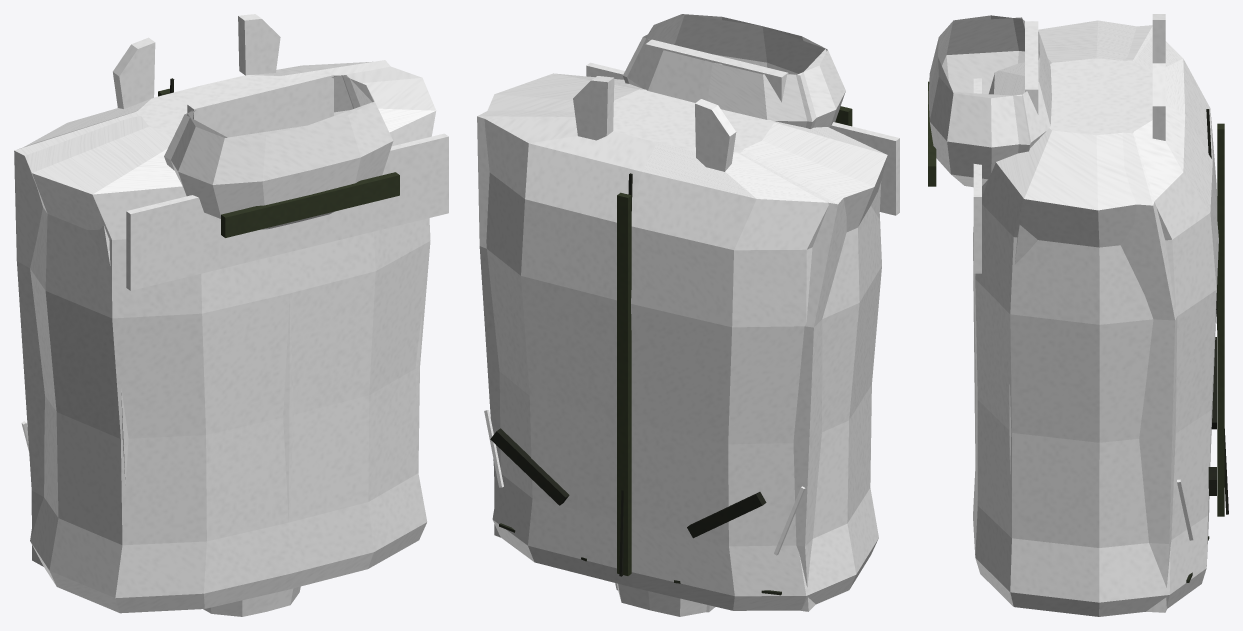
File: jacket_softshell.glb
3 renders of one model, left to right at view 1: azimuth 30°, elevation 25°; view 2: azimuth 150°, elevation 25°; view 3: azimuth 270°, elevation 25°, orthographic. The views are drawn at different scales.
Parts seen in each view (by area): view 1: jacket_softshell_torso_LOD0_RAID_cloth.001, jacket_softshell_torso_LOD1_RAID_cloth.001, jacket_softshell_torso_LOD0_RAID_reinforce.001, jacket_softshell_torso_LOD1_RAID_reinforce.001, jacket_softshell_upperL_LOD0_RAID_cloth.001; view 2: jacket_softshell_torso_LOD0_RAID_cloth.001, jacket_softshell_torso_LOD1_RAID_cloth.001, jacket_softshell_torso_LOD0_RAID_reinforce.001, jacket_softshell_torso_LOD1_RAID_reinforce.001, jacket_softshell_torso_LOD0_RAID_zip.001, jacket_softshell_torso_LOD1_RAID_zip.001, jacket_softshell_upperL_LOD0_RAID_cloth.001; view 3: jacket_softshell_torso_LOD0_RAID_cloth.001, jacket_softshell_torso_LOD1_RAID_cloth.001, jacket_softshell_torso_LOD0_RAID_reinforce.001, jacket_softshell_torso_LOD1_RAID_reinforce.001, jacket_softshell_torso_LOD0_RAID_zip.001, jacket_softshell_torso_LOD1_RAID_zip.001.
Part boxes in pixels (left/top/right/bottom): jacket_softshell_torso_LOD0_RAID_cloth.001: left=21, top=14, right=448, bottom=613; jacket_softshell_torso_LOD1_RAID_cloth.001: left=14, top=60, right=448, bottom=566; jacket_softshell_torso_LOD0_RAID_reinforce.001: left=163, top=89, right=399, bottom=235; jacket_softshell_torso_LOD1_RAID_reinforce.001: left=158, top=88, right=399, bottom=237; jacket_softshell_upperL_LOD0_RAID_cloth.001: left=203, top=586, right=300, bottom=616; jacket_softshell_torso_LOD0_RAID_cloth.001: left=484, top=14, right=899, bottom=610; jacket_softshell_torso_LOD1_RAID_cloth.001: left=477, top=14, right=899, bottom=611; jacket_softshell_torso_LOD0_RAID_reinforce.001: left=617, top=111, right=852, bottom=575; jacket_softshell_torso_LOD1_RAID_reinforce.001: left=617, top=106, right=852, bottom=575; jacket_softshell_torso_LOD0_RAID_zip.001: left=491, top=173, right=765, bottom=576; jacket_softshell_torso_LOD1_RAID_zip.001: left=490, top=428, right=766, bottom=538; jacket_softshell_upperL_LOD0_RAID_cloth.001: left=616, top=583, right=715, bottom=616; jacket_softshell_torso_LOD0_RAID_cloth.001: left=928, top=14, right=1218, bottom=616; jacket_softshell_torso_LOD1_RAID_cloth.001: left=938, top=17, right=1216, bottom=612; jacket_softshell_torso_LOD0_RAID_reinforce.001: left=928, top=90, right=1224, bottom=462; jacket_softshell_torso_LOD1_RAID_reinforce.001: left=928, top=81, right=1224, bottom=516; jacket_softshell_torso_LOD0_RAID_zip.001: left=1206, top=109, right=1228, bottom=514; jacket_softshell_torso_LOD1_RAID_zip.001: left=1208, top=337, right=1216, bottom=495.
Size of the model in its own units: 0.4795 by 0.6227 by 0.321.
Materials: 4 (4 with a texture image).
